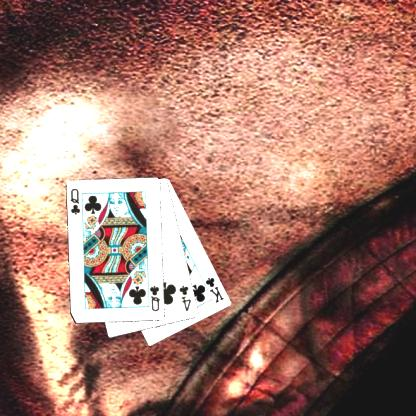4C: (176, 283, 193, 313)
KC: (199, 274, 225, 304)
QC: (148, 283, 162, 313), (68, 186, 82, 216)
